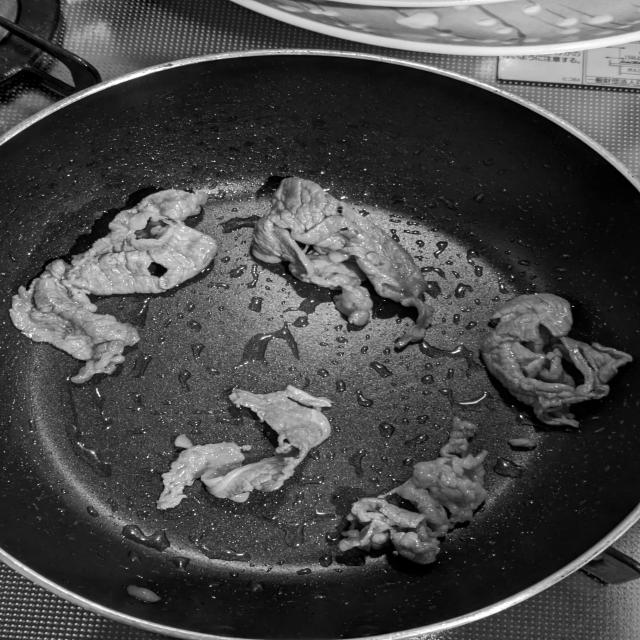OK cooked beef,: (6, 188, 241, 385), (234, 169, 439, 354), (329, 412, 493, 576), (154, 381, 344, 517), (475, 285, 636, 436)
